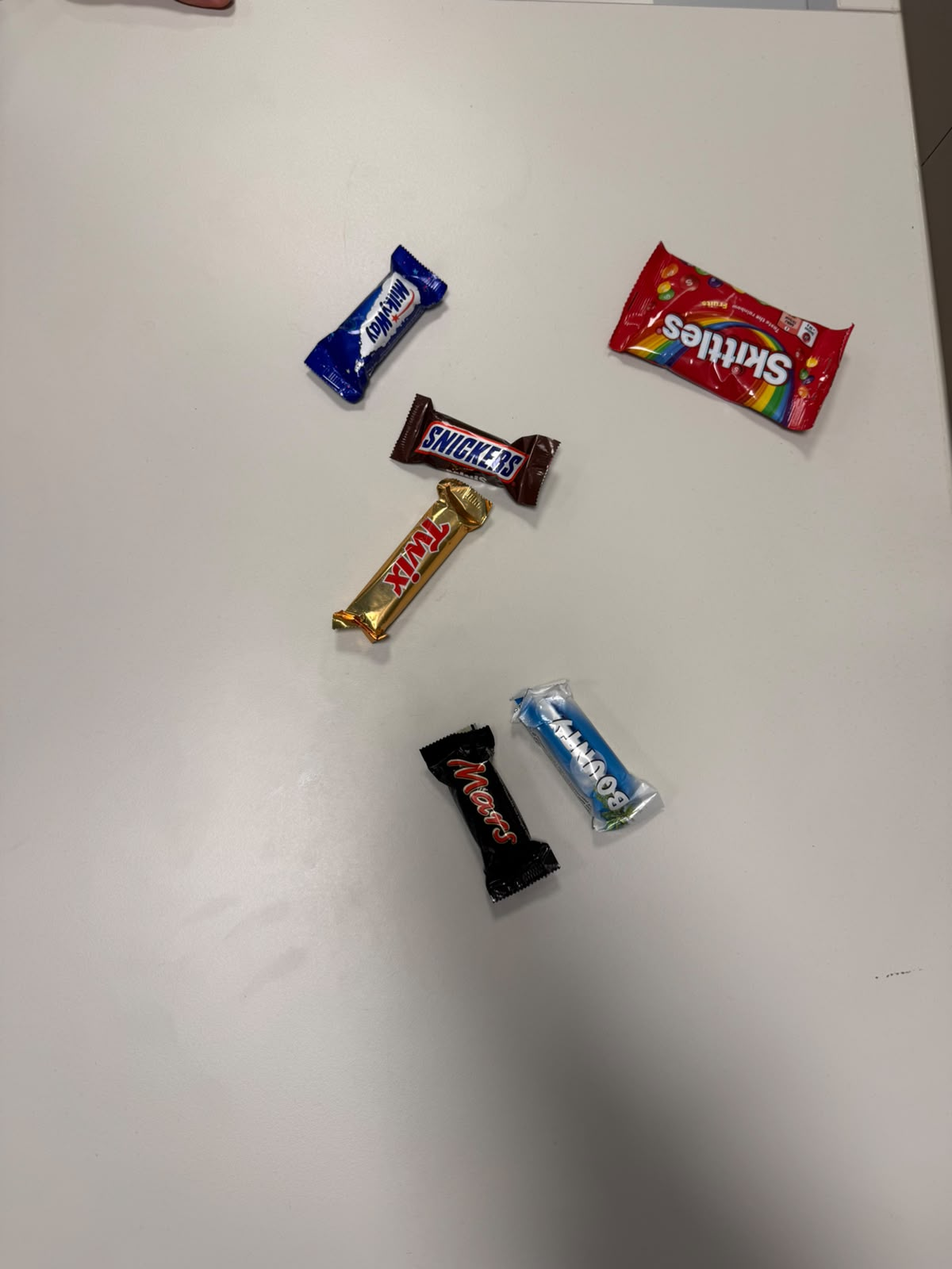Bounty: (487, 705, 572, 901)
Mars: (412, 746, 484, 932)
MilkyWay: (407, 217, 490, 413)
Skittles: (663, 218, 888, 380)
Snickers: (414, 376, 586, 461)
Twix: (452, 467, 513, 671)
